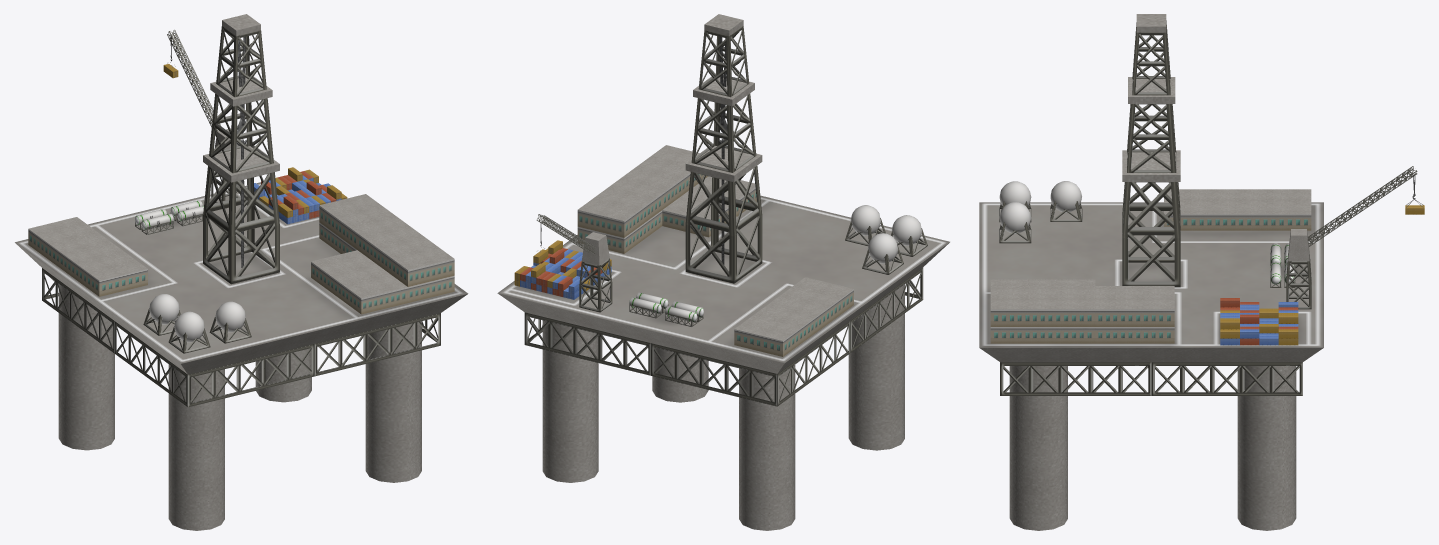
Rendered from OilDerrick.fbx.
The picture shows the model from 3 angles, left to right: view 1: azimuth 30°, elevation 25°; view 2: azimuth 150°, elevation 25°; view 3: azimuth 270°, elevation 25°; orthographic projection. The views are drawn at different scales.
Parts seen in each view (by area): view 1: Oil_Base, Oil_Tower, Oil_Build_2, Oil_Build_1, Oil_Cisterns_1, Oil_Box, Oil_Crane, Oil_Cisterns_2; view 2: Oil_Base, Oil_Tower, Oil_Build_2, Oil_Build_1, Oil_Cisterns_1, Oil_Box, Oil_Crane, Oil_Cisterns_2; view 3: Oil_Base, Oil_Build_2, Oil_Tower, Oil_Build_1, Oil_Box, Oil_Crane, Oil_Cisterns_1, Oil_Cisterns_2.
Part boxes in pixels (x1,y1,x2,y2): Oil_Base: (15, 182, 468, 530); Oil_Tower: (203, 14, 279, 284); Oil_Build_2: (311, 194, 454, 314); Oil_Build_1: (28, 217, 147, 296); Oil_Cisterns_1: (143, 294, 251, 353); Oil_Box: (254, 167, 347, 224); Oil_Crane: (163, 29, 244, 208); Oil_Cisterns_2: (135, 200, 209, 234); Oil_Base: (497, 195, 949, 530); Oil_Tower: (685, 14, 762, 283); Oil_Build_2: (577, 145, 756, 253); Oil_Build_1: (734, 277, 853, 356); Oil_Cisterns_1: (845, 205, 927, 274); Oil_Box: (514, 240, 611, 299); Oil_Crane: (533, 214, 612, 312); Oil_Cisterns_2: (629, 292, 703, 326); Oil_Base: (979, 202, 1323, 530); Oil_Build_2: (990, 279, 1174, 343); Oil_Tower: (1122, 14, 1180, 287); Oil_Build_1: (1164, 189, 1311, 230); Oil_Box: (1220, 298, 1298, 345); Oil_Crane: (1286, 166, 1424, 309); Oil_Cisterns_1: (999, 181, 1082, 243); Oil_Cisterns_2: (1270, 243, 1295, 287).
Bounding box in the file's own units: 1180 × 1696 × 1526.
1 material, 1 textured.
